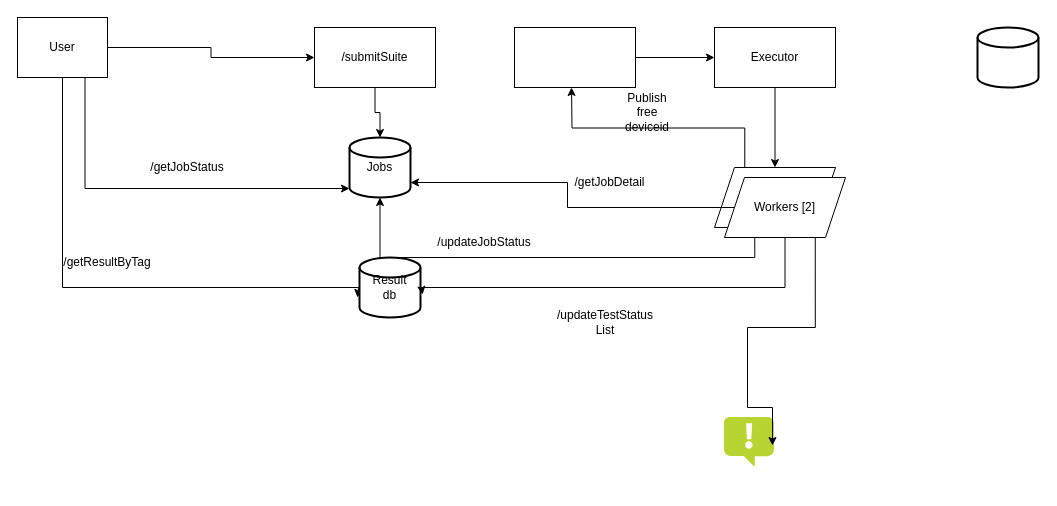
Some shapes in this 1057 by 506 pixel diagram are drawn without their labels. The centre of each missing label's shape, as x and y in pixels:
devices: [1007,57]
queue Topics - be, web, mobile device_free: [575,57]
Slack Notification: [749,442]
